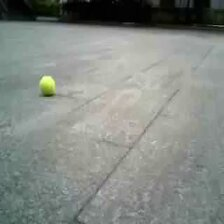tennis: (40, 77, 55, 94)
